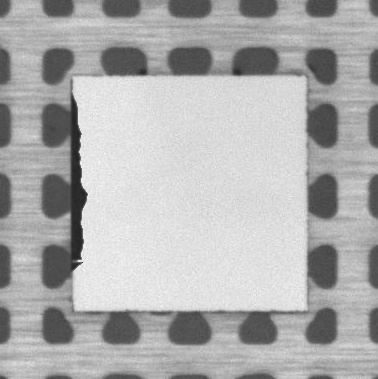DIE_BROKEN: (68, 94, 90, 273)
